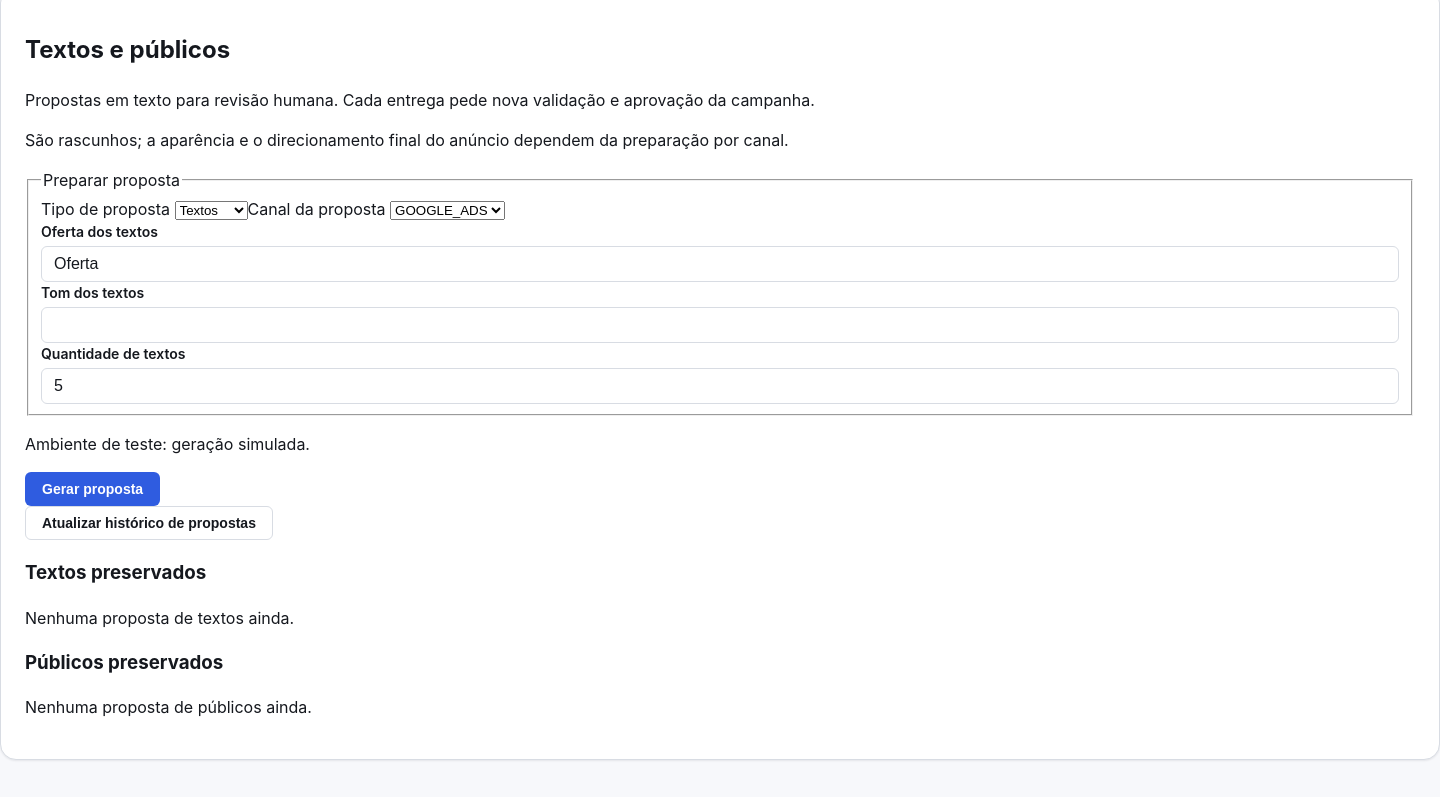
Scenario: CreativeProposalsPanel › reviews three credits before sending and displays preserved text and provenance
expect the text "Ambiente de teste: geração simulada." is shown: met, box [25,434,310,454]
Type "direto" into the field labelled "Tom dos textos" at (720, 325), box [41,307,1399,343]
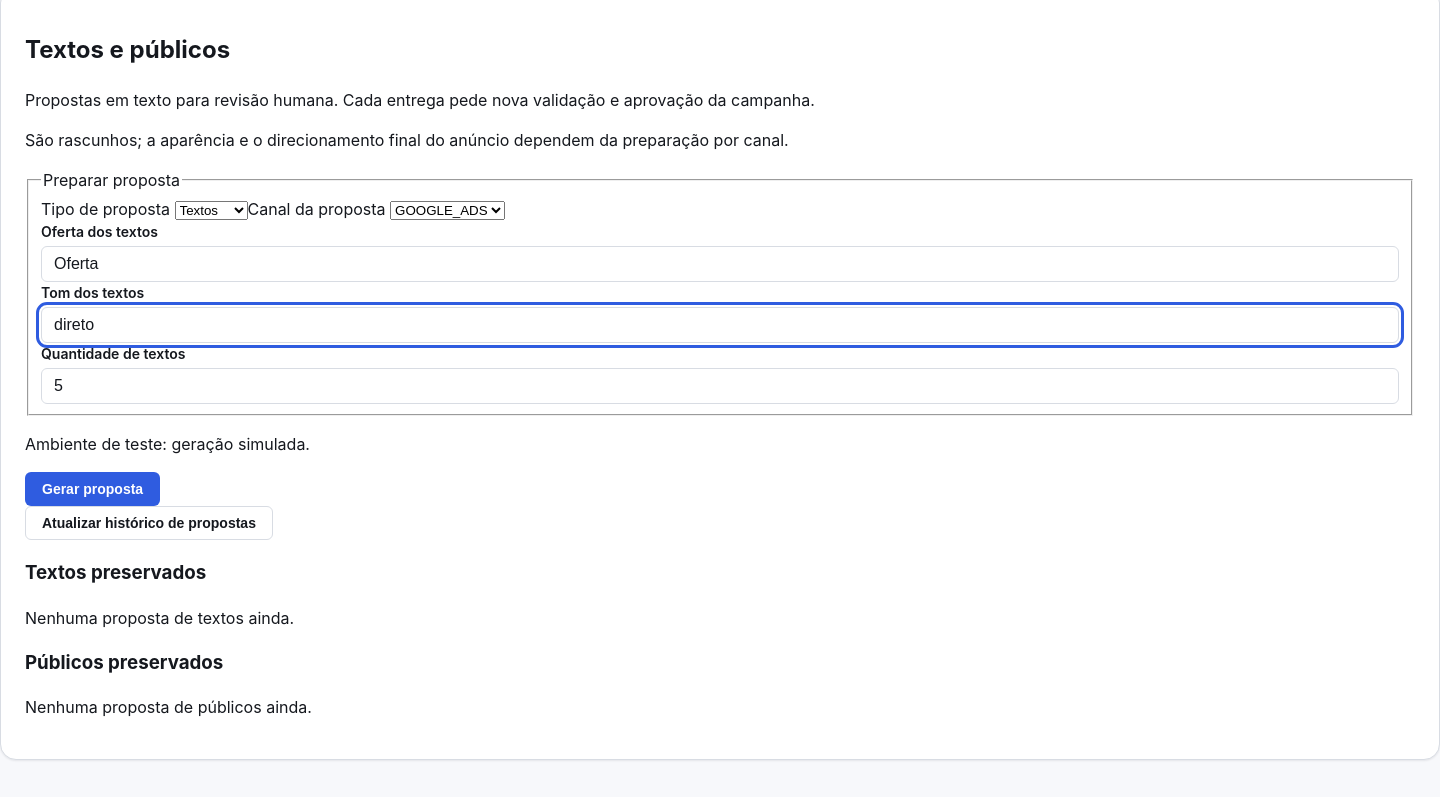
Click the button "Gerar proposta" at (93, 489), box [25,472,160,506]
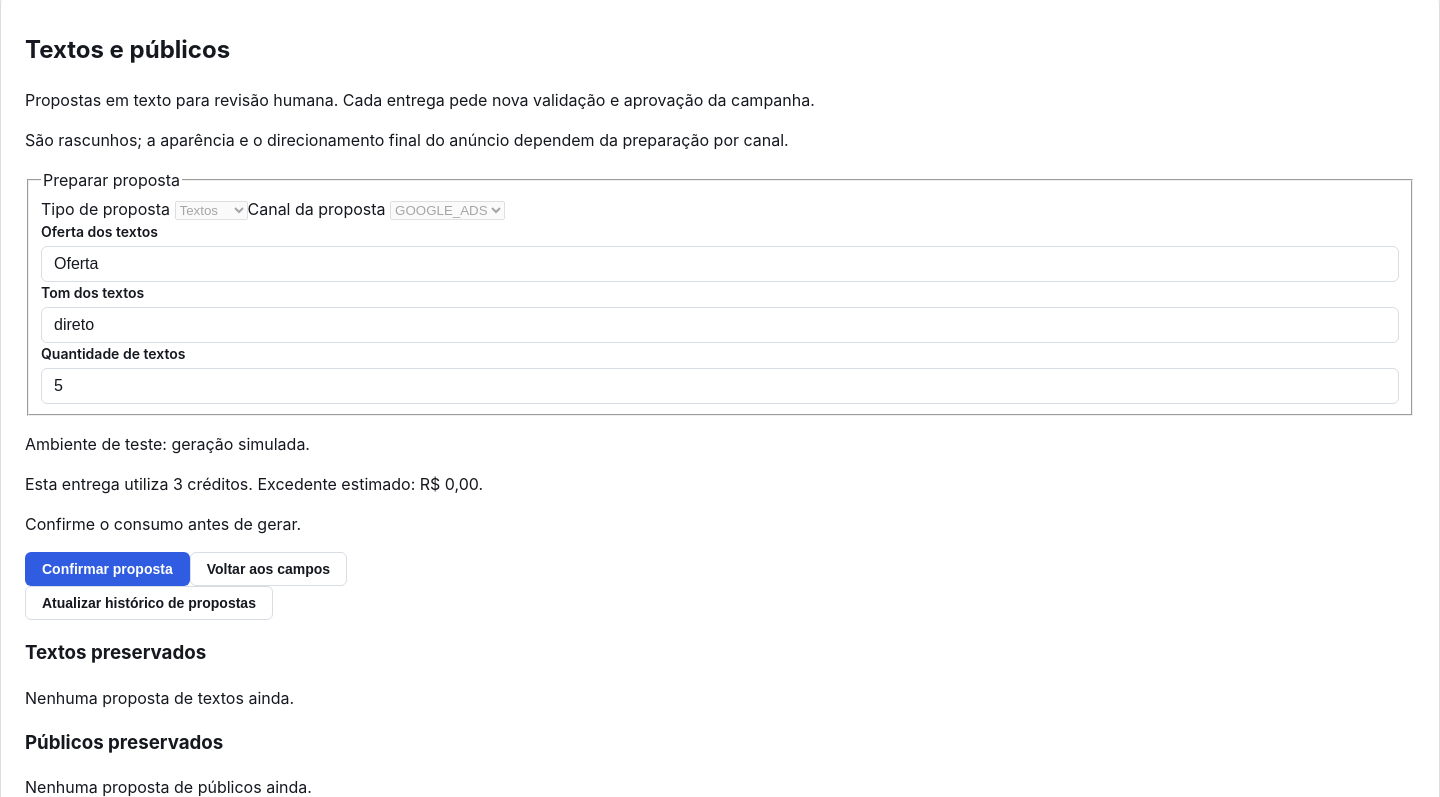
expect the field labelled "Oferta dos textos" is disabled: met, box [41,246,1399,282]
expect the text "Esta entrega utiliza 3 créditos" is shown: met, box [25,474,483,494]
Click the button "Confirmar proposta" at (107, 569), box [25,552,190,586]
(page scrolled)
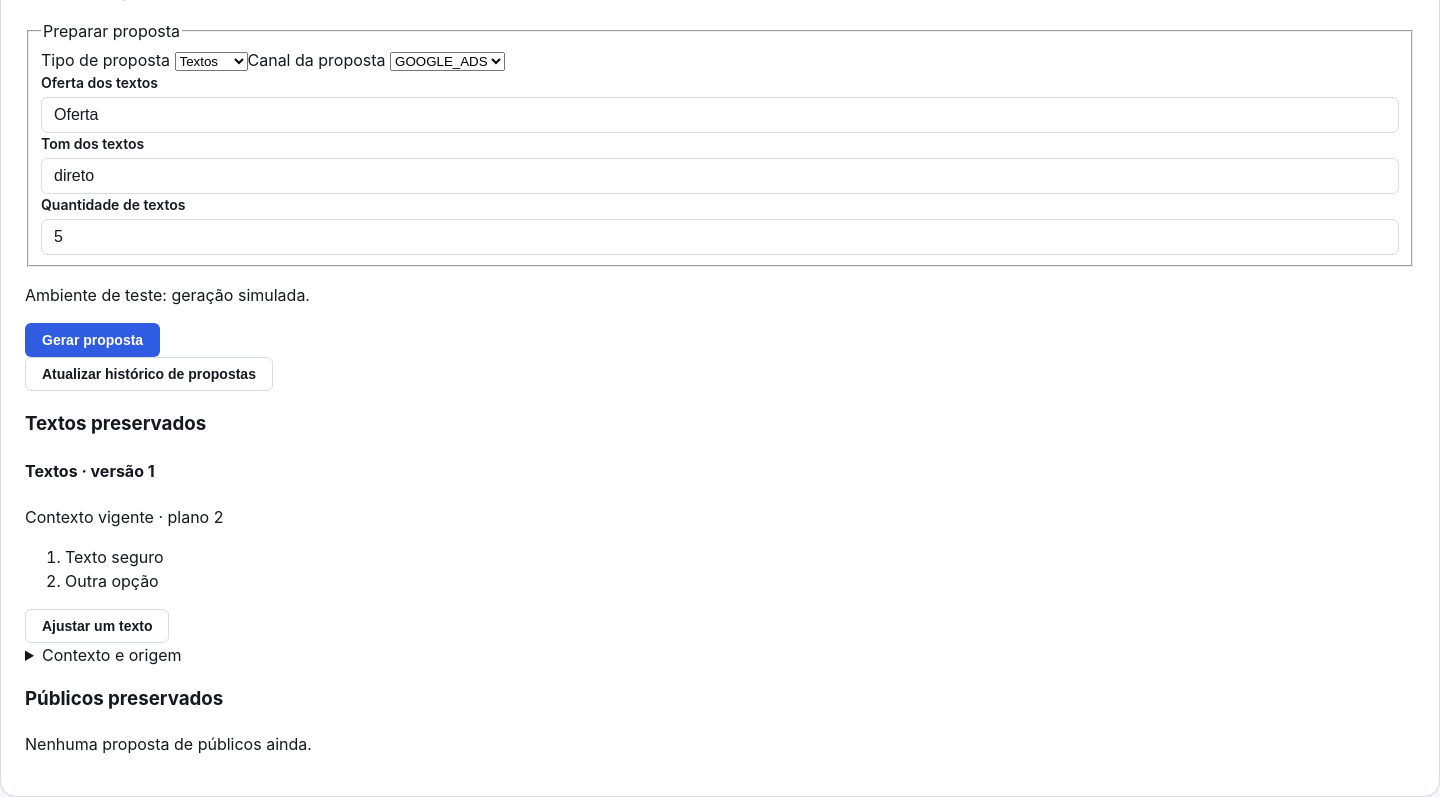
expect the list item "Texto seguro" is shown: met, box [65,547,164,567]
Click the heading "Contexto e origem" at (112, 655), box [42,645,182,665]
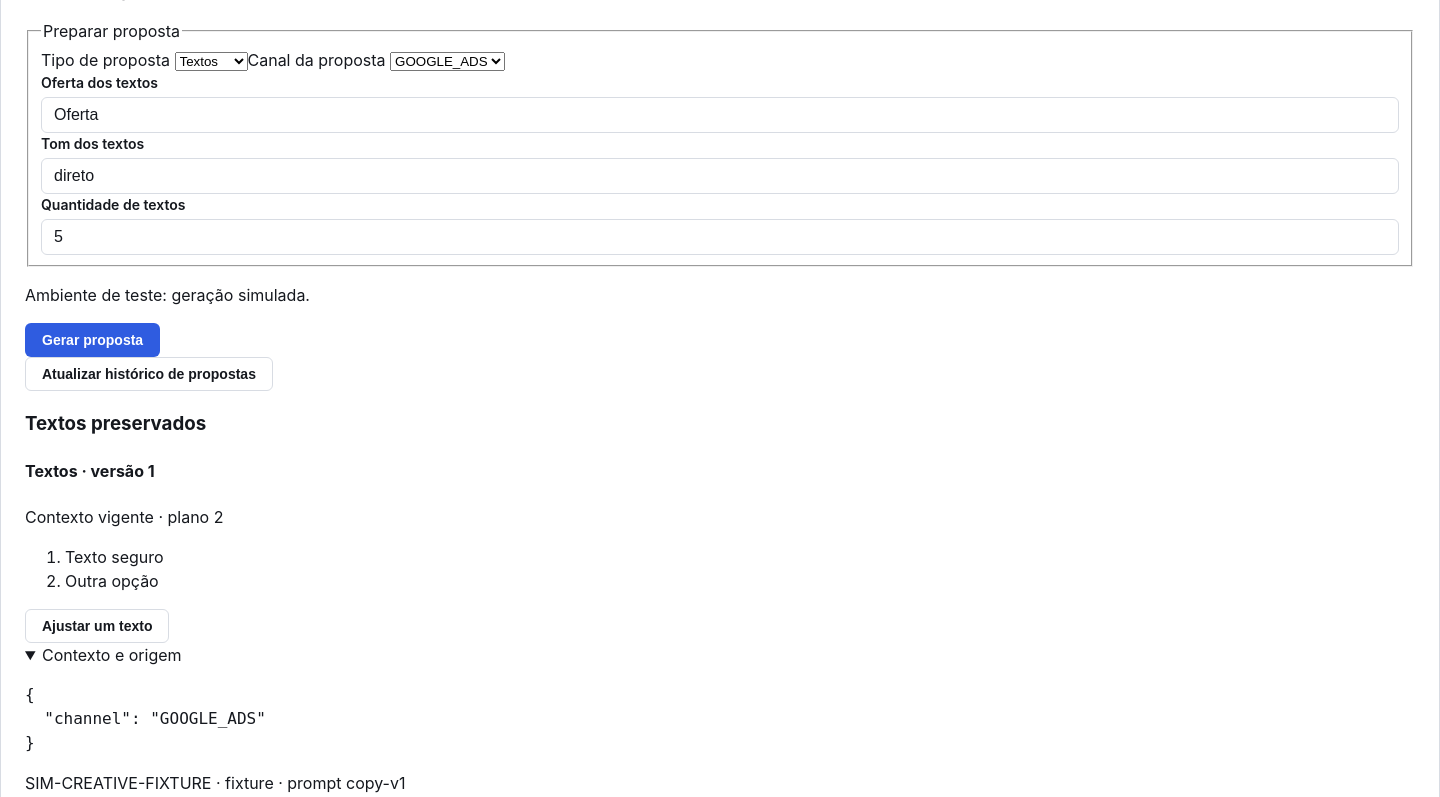
expect the text "SIM-CREATIVE-FIXTURE · fixture · prompt copy-v1" is shown: met, box [25,773,406,793]
